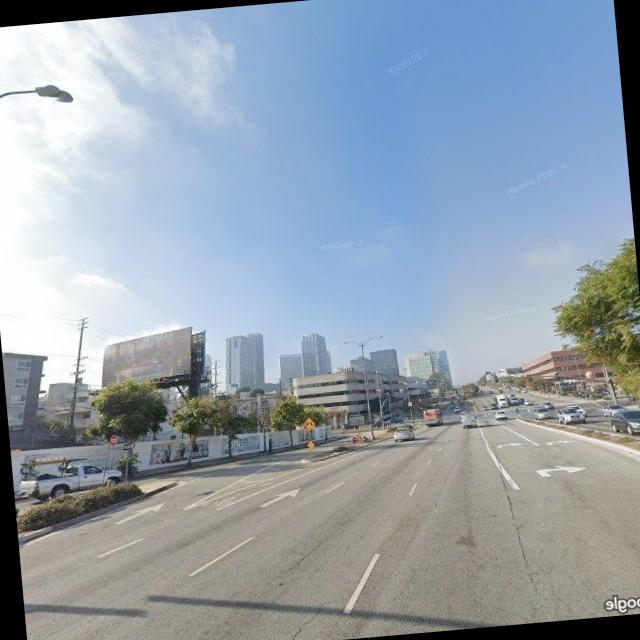pothole: (508, 501, 541, 601), (273, 597, 336, 640), (282, 542, 322, 571)
